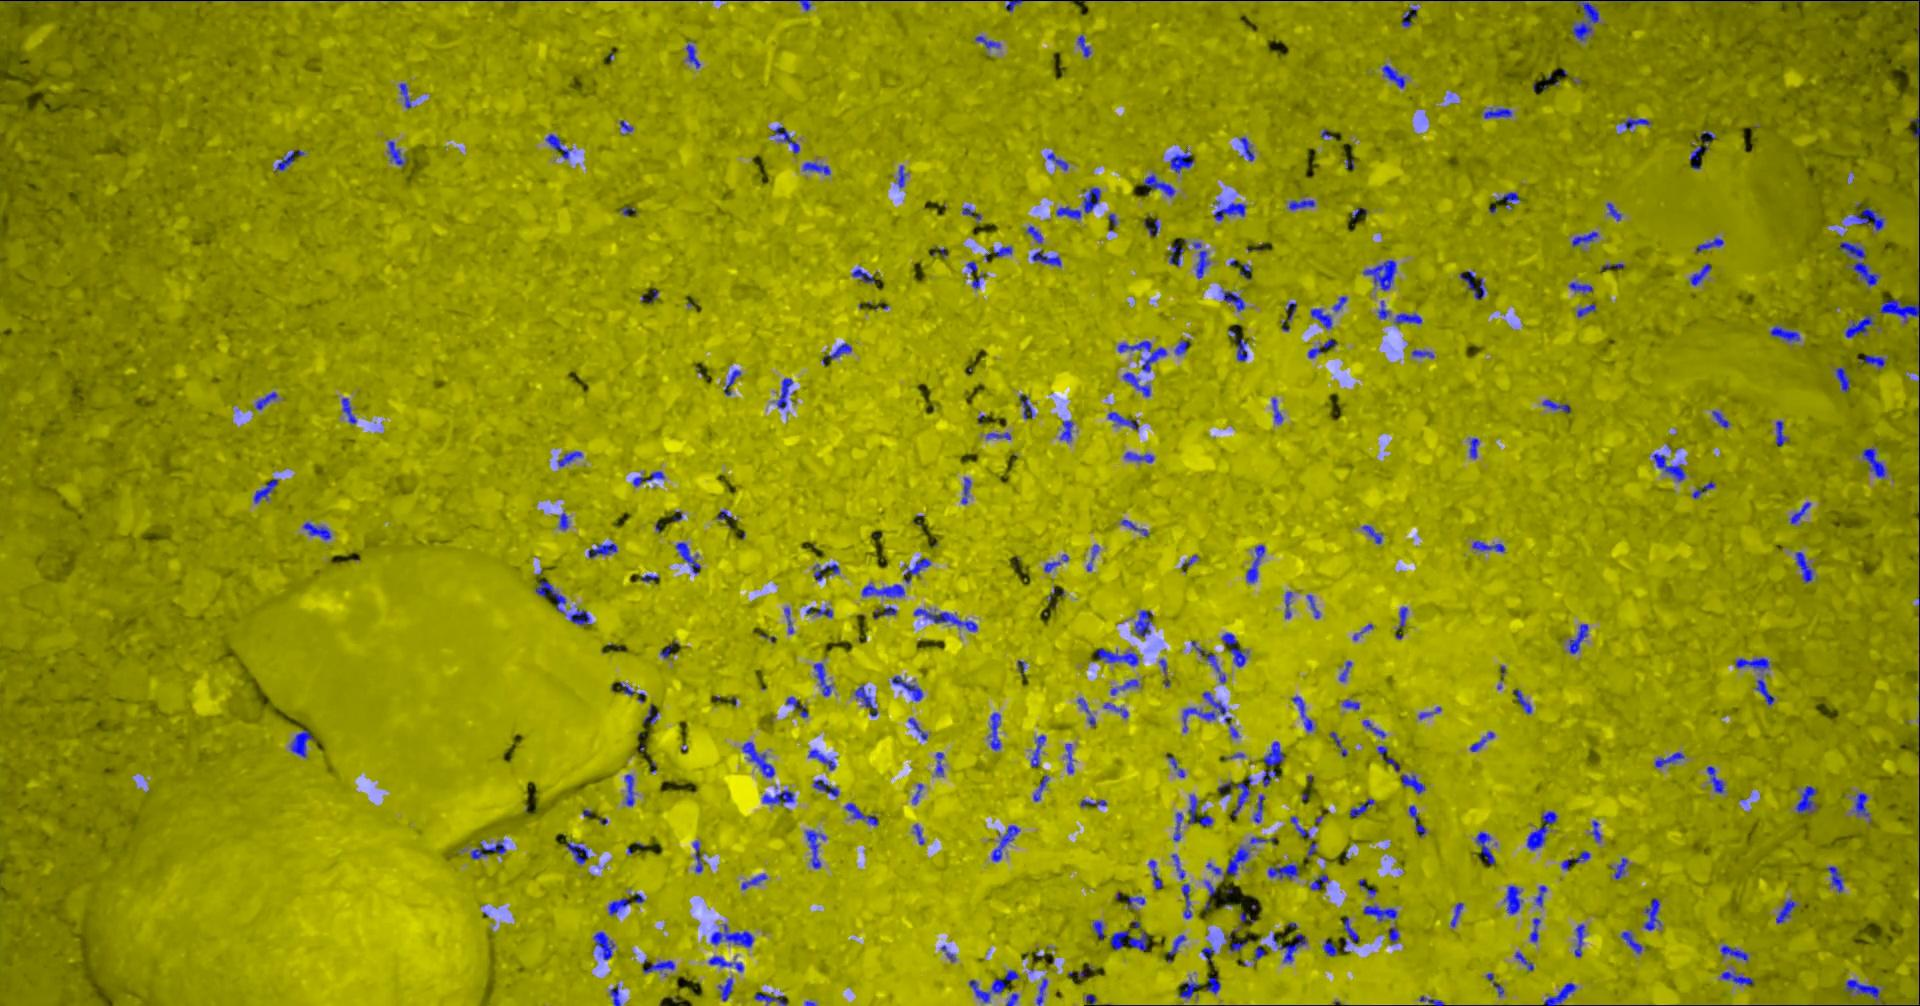ant: (1182, 691, 1238, 738), (1837, 241, 1879, 286), (968, 969, 1018, 1002), (1117, 340, 1166, 372), (1191, 640, 1225, 683), (913, 608, 977, 631), (1055, 187, 1100, 218), (1217, 776, 1251, 815), (742, 741, 775, 777), (1526, 810, 1557, 850), (1890, 0, 1919, 39), (1571, 0, 1597, 39), (710, 923, 753, 948), (1648, 453, 1685, 481), (1363, 259, 1396, 290), (990, 826, 1018, 861), (1262, 741, 1284, 786), (535, 580, 565, 612), (1879, 298, 1919, 323), (1272, 934, 1305, 962), (1222, 633, 1247, 667), (1848, 206, 1883, 230), (1110, 929, 1147, 951), (804, 829, 825, 868), (844, 801, 877, 826), (1542, 982, 1576, 1005), (1689, 131, 1716, 160), (1096, 647, 1137, 666), (891, 674, 922, 700), (676, 541, 700, 573), (1187, 794, 1211, 826), (1142, 173, 1175, 196), (855, 683, 877, 716), (771, 126, 799, 152), (1291, 696, 1313, 730), (1862, 446, 1884, 478), (1844, 979, 1879, 1000), (1459, 271, 1484, 298), (1123, 371, 1150, 396), (1225, 846, 1250, 875), (545, 133, 571, 159), (1246, 544, 1263, 582), (903, 558, 930, 583), (1844, 314, 1873, 337), (290, 729, 312, 757), (470, 840, 505, 857), (274, 149, 303, 170), (813, 662, 832, 695), (1476, 831, 1495, 864), (253, 478, 277, 503), (1192, 241, 1209, 278), (1228, 329, 1247, 361), (808, 748, 836, 770), (1796, 785, 1817, 813), (593, 931, 615, 959), (1307, 338, 1336, 358), (1754, 676, 1774, 705), (1568, 622, 1587, 653), (1213, 202, 1244, 220), (1643, 898, 1661, 930), (1503, 885, 1523, 915), (1382, 64, 1404, 88), (1170, 147, 1192, 171), (861, 584, 904, 597), (1107, 412, 1138, 429), (1408, 805, 1425, 837), (1267, 862, 1299, 879), (565, 840, 588, 862), (1363, 904, 1397, 920), (709, 955, 743, 970), (1077, 697, 1095, 727), (387, 140, 408, 165), (1775, 898, 1796, 923), (1705, 766, 1724, 793), (776, 377, 792, 408), (1796, 551, 1812, 582), (1030, 734, 1045, 767), (302, 521, 330, 539), (811, 563, 839, 580), (1167, 934, 1185, 962), (1222, 290, 1244, 311), (1469, 730, 1493, 751), (632, 471, 664, 486), (761, 789, 792, 804), (1349, 798, 1374, 817), (1031, 249, 1060, 265), (1655, 751, 1684, 767), (824, 342, 851, 359), (1134, 610, 1152, 636), (811, 779, 838, 796), (988, 713, 1001, 749), (1689, 263, 1710, 285), (1769, 325, 1799, 340), (1789, 500, 1810, 523), (785, 696, 808, 716), (907, 716, 927, 739), (1289, 815, 1309, 838), (1120, 520, 1148, 536), (1719, 970, 1752, 984), (753, 991, 786, 1005), (1495, 191, 1519, 210), (1512, 688, 1531, 713), (1401, 774, 1425, 793), (723, 370, 740, 395), (1281, 302, 1297, 332), (587, 542, 616, 558), (1620, 931, 1641, 953), (1110, 680, 1138, 695), (1148, 859, 1162, 889), (1719, 945, 1747, 960), (1470, 540, 1503, 553), (1735, 657, 1768, 669), (1826, 866, 1843, 892), (1310, 307, 1331, 328), (1178, 977, 1197, 998), (1571, 231, 1597, 246), (1363, 719, 1385, 737), (1032, 775, 1048, 801), (1851, 793, 1869, 815), (1343, 916, 1359, 942), (742, 873, 766, 889), (1695, 238, 1723, 251), (684, 43, 700, 69), (1239, 136, 1255, 161), (1399, 4, 1417, 25), (1046, 152, 1068, 170), (607, 897, 629, 915), (1691, 481, 1714, 498), (1167, 754, 1183, 777), (851, 268, 875, 283), (557, 451, 582, 466), (1514, 951, 1533, 970), (643, 960, 674, 972), (255, 391, 276, 409), (1361, 525, 1382, 542), (1181, 883, 1191, 918), (569, 608, 590, 625), (397, 83, 411, 108), (803, 161, 830, 174), (985, 246, 1011, 260), (1859, 354, 1884, 368), (1835, 367, 1849, 392), (342, 398, 356, 423), (1542, 399, 1570, 412), (1086, 544, 1098, 572), (1910, 113, 1919, 152), (1620, 117, 1651, 128), (1168, 243, 1183, 265), (1018, 394, 1032, 418), (1305, 594, 1319, 619), (1103, 702, 1128, 716), (692, 840, 702, 873), (1124, 451, 1153, 462), (974, 36, 999, 48), (1171, 854, 1183, 879), (1076, 34, 1090, 57), (1483, 107, 1511, 118), (1252, 794, 1263, 822), (717, 977, 731, 1000), (1036, 977, 1048, 1005), (1025, 225, 1043, 243), (1710, 410, 1730, 427), (1309, 873, 1328, 889), (643, 702, 658, 723), (1568, 281, 1592, 293), (1775, 420, 1788, 445), (872, 606, 897, 619), (1450, 902, 1463, 926), (805, 606, 832, 617), (1613, 857, 1627, 879), (1172, 812, 1182, 841), (1575, 923, 1583, 956), (1271, 398, 1283, 423), (1529, 917, 1540, 942), (1059, 420, 1073, 441), (623, 774, 632, 805), (1228, 940, 1252, 951), (1288, 199, 1314, 210), (1606, 202, 1622, 220), (1394, 312, 1421, 323), (1064, 743, 1073, 774), (1322, 937, 1336, 956), (1396, 606, 1407, 629), (961, 207, 982, 220), (960, 478, 970, 503), (1338, 661, 1351, 681), (1206, 976, 1220, 993), (1418, 995, 1443, 1005), (1377, 300, 1389, 319), (1576, 304, 1595, 316), (1332, 296, 1347, 311), (1590, 821, 1601, 841), (1534, 885, 1545, 906), (783, 607, 792, 633), (610, 983, 620, 1005), (912, 824, 923, 843), (1092, 920, 1103, 939), (1175, 339, 1189, 354), (1284, 591, 1291, 619), (1147, 218, 1159, 235), (1387, 926, 1399, 942), (1004, 0, 1022, 11), (935, 752, 943, 775), (1079, 799, 1106, 807), (1250, 836, 1275, 843), (1252, 946, 1265, 962), (897, 165, 905, 187), (1469, 437, 1478, 459), (985, 432, 1010, 439), (1575, 850, 1589, 862), (1201, 948, 1214, 962), (1342, 699, 1359, 709), (1128, 895, 1144, 906), (1411, 349, 1432, 357), (1004, 993, 1018, 1005), (559, 512, 568, 528), (1708, 0, 1759, 1)
